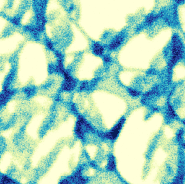hole_empty: (113, 28, 177, 73)
hole_filled: (0, 94, 85, 184), (113, 103, 185, 184), (64, 87, 133, 133), (10, 39, 60, 92), (61, 48, 103, 84)
